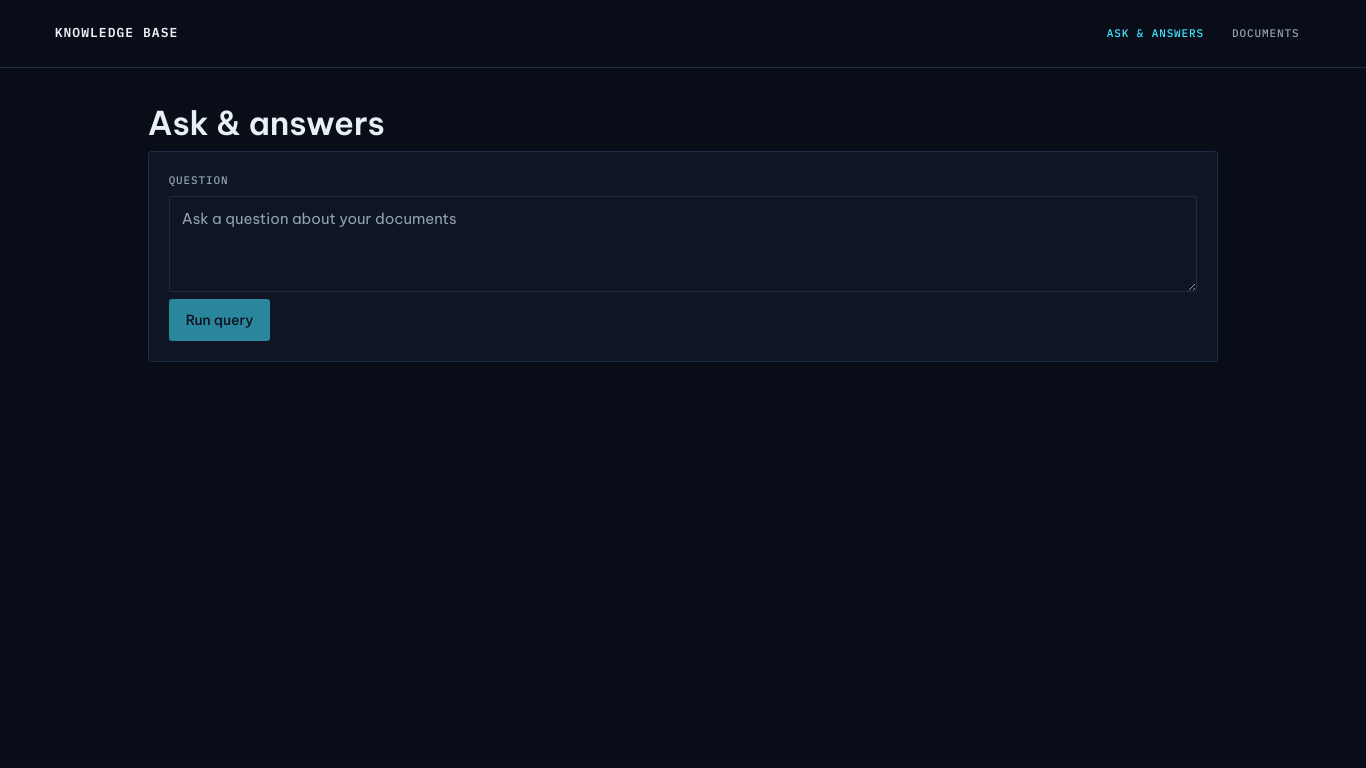
Scenario: App audit remediation — query, answer, and evidence › evidence shows source count, C1 open by default, and C2 toggles with aria-expanded
Type "How much notice?" into the text box labelled "Question" at (683, 244), box 169,196 -> 1197,292
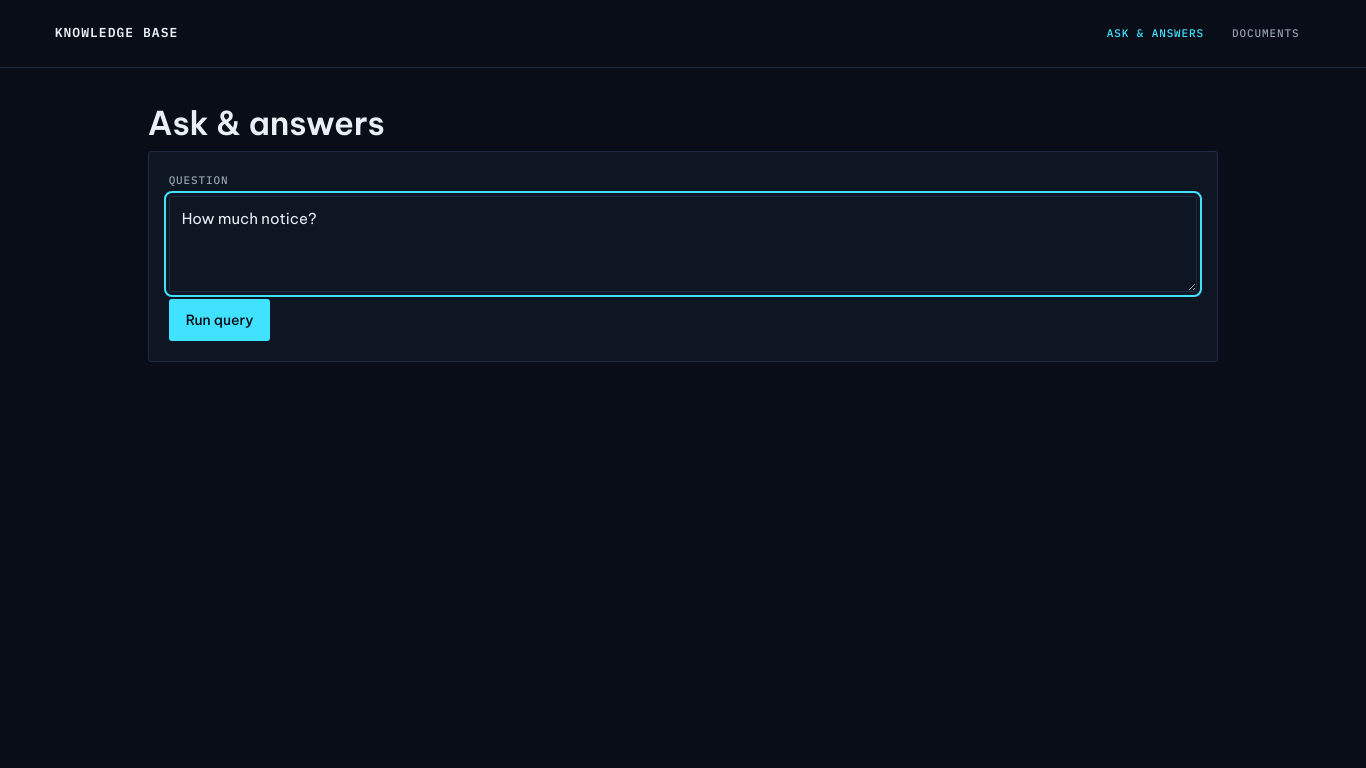
Click the button "Run query" at (220, 320), box 169,299 -> 270,341
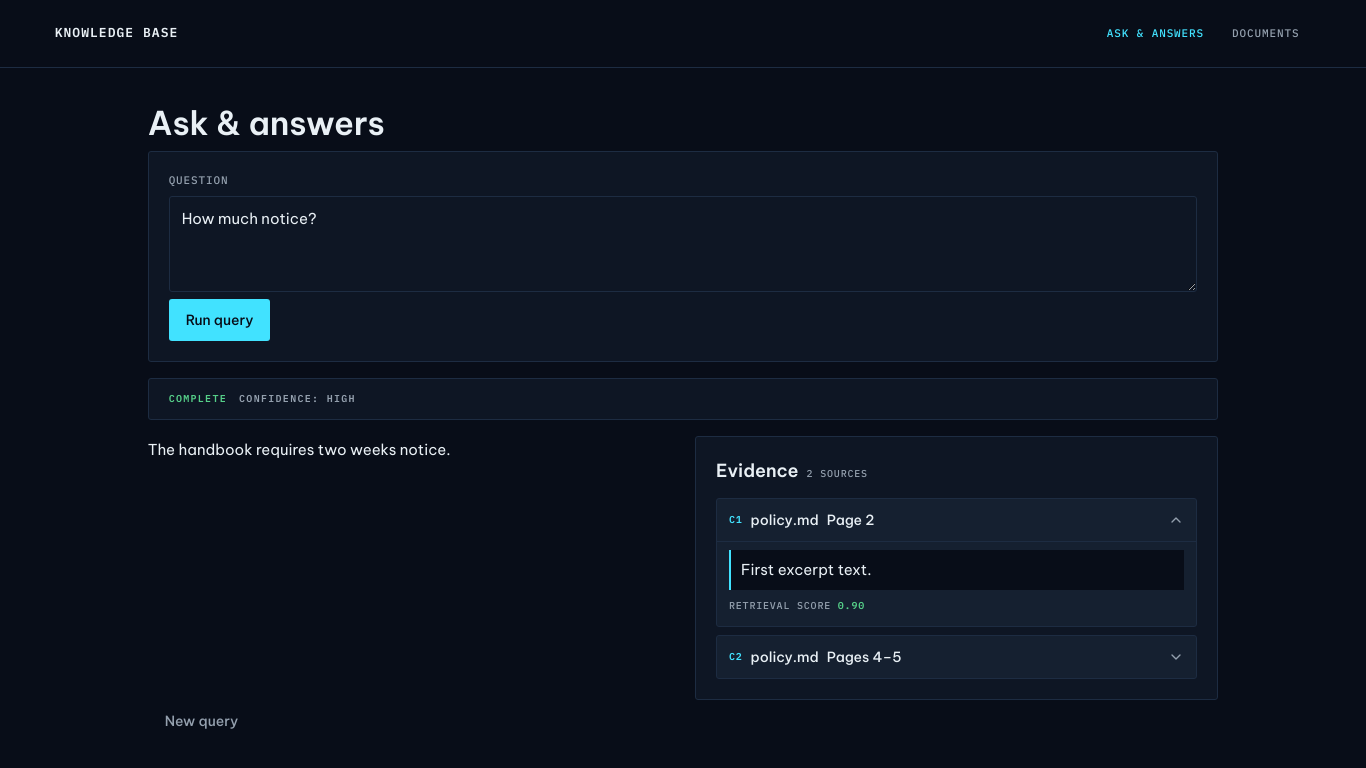
Expected: the text "Second excerpt text." is not shown
Now the heading "Evidence 2 sources" is shown, box 716,459 -> 868,482
Now the text "First excerpt text." is shown, box 729,550 -> 1184,590
Click the button "C2 policy.md Pages 4–5" at (785, 657), box 717,636 -> 1196,678
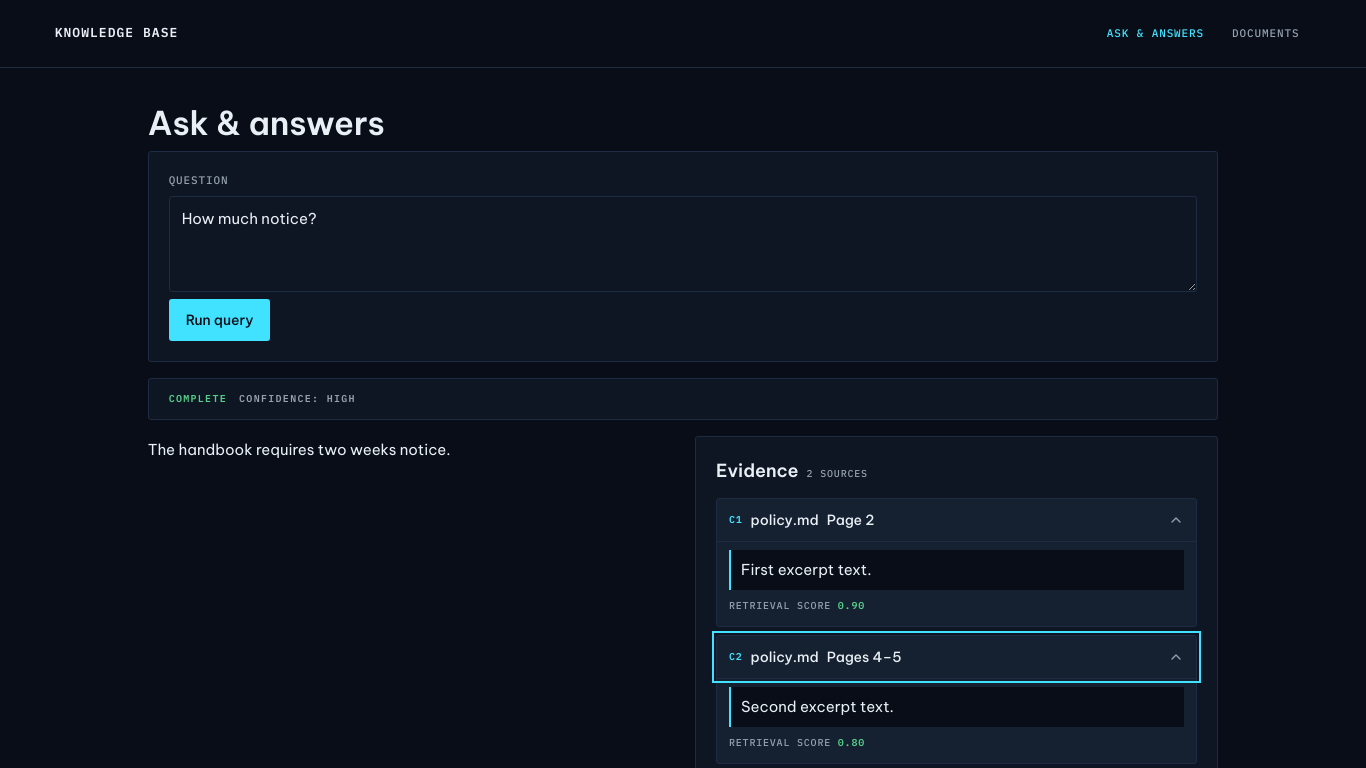
Now the button "C2 policy.md Pages 4–5" is expanded, box 717,636 -> 1196,678
Now the text "Second excerpt text." is shown, box 729,687 -> 1184,727
